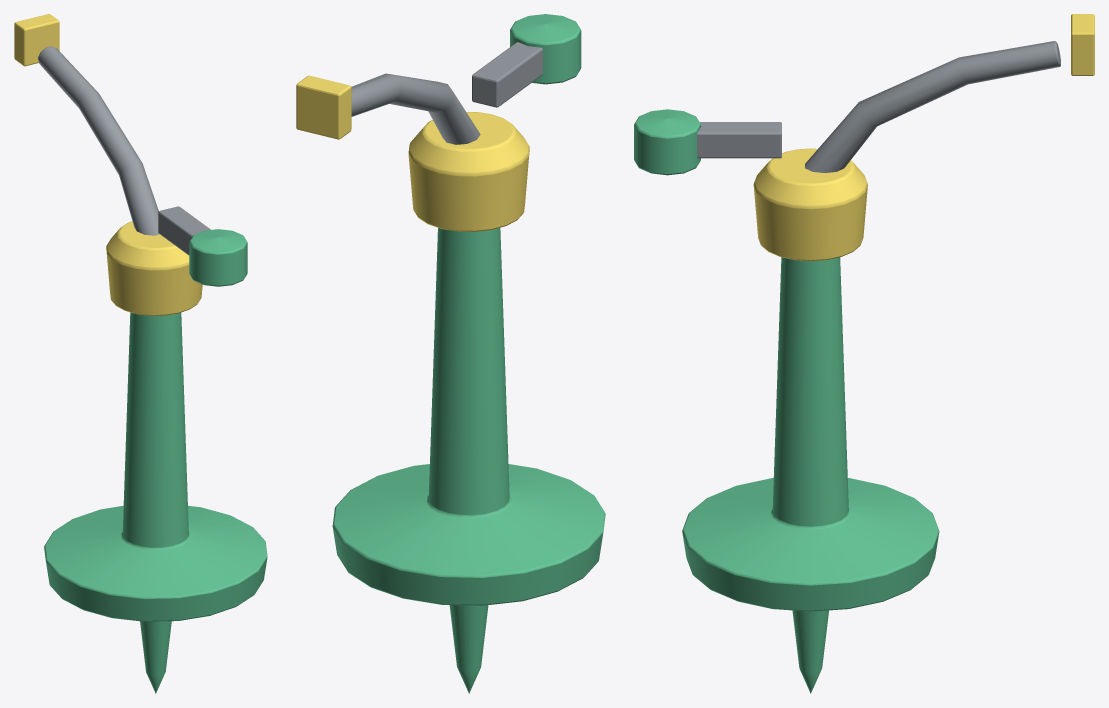
The model's file is rasensprenger.glb.
The picture shows the model from 3 angles, left to right: view 1: azimuth 30°, elevation 25°; view 2: azimuth 150°, elevation 25°; view 3: azimuth 270°, elevation 25°; orthographic projection. The views are drawn at different scales.
Visible parts, largest first — view 1: rasensprenger_lod0; view 2: rasensprenger_lod0; view 3: rasensprenger_lod0.
Part boxes in pixels (x1,y1,x2,y2): rasensprenger_lod0: (14,14,267,693); rasensprenger_lod0: (296,14,605,693); rasensprenger_lod0: (634,14,1094,693).
Size of what is drawn, in the model's own units: 2.69 by 7.75 by 4.82.
